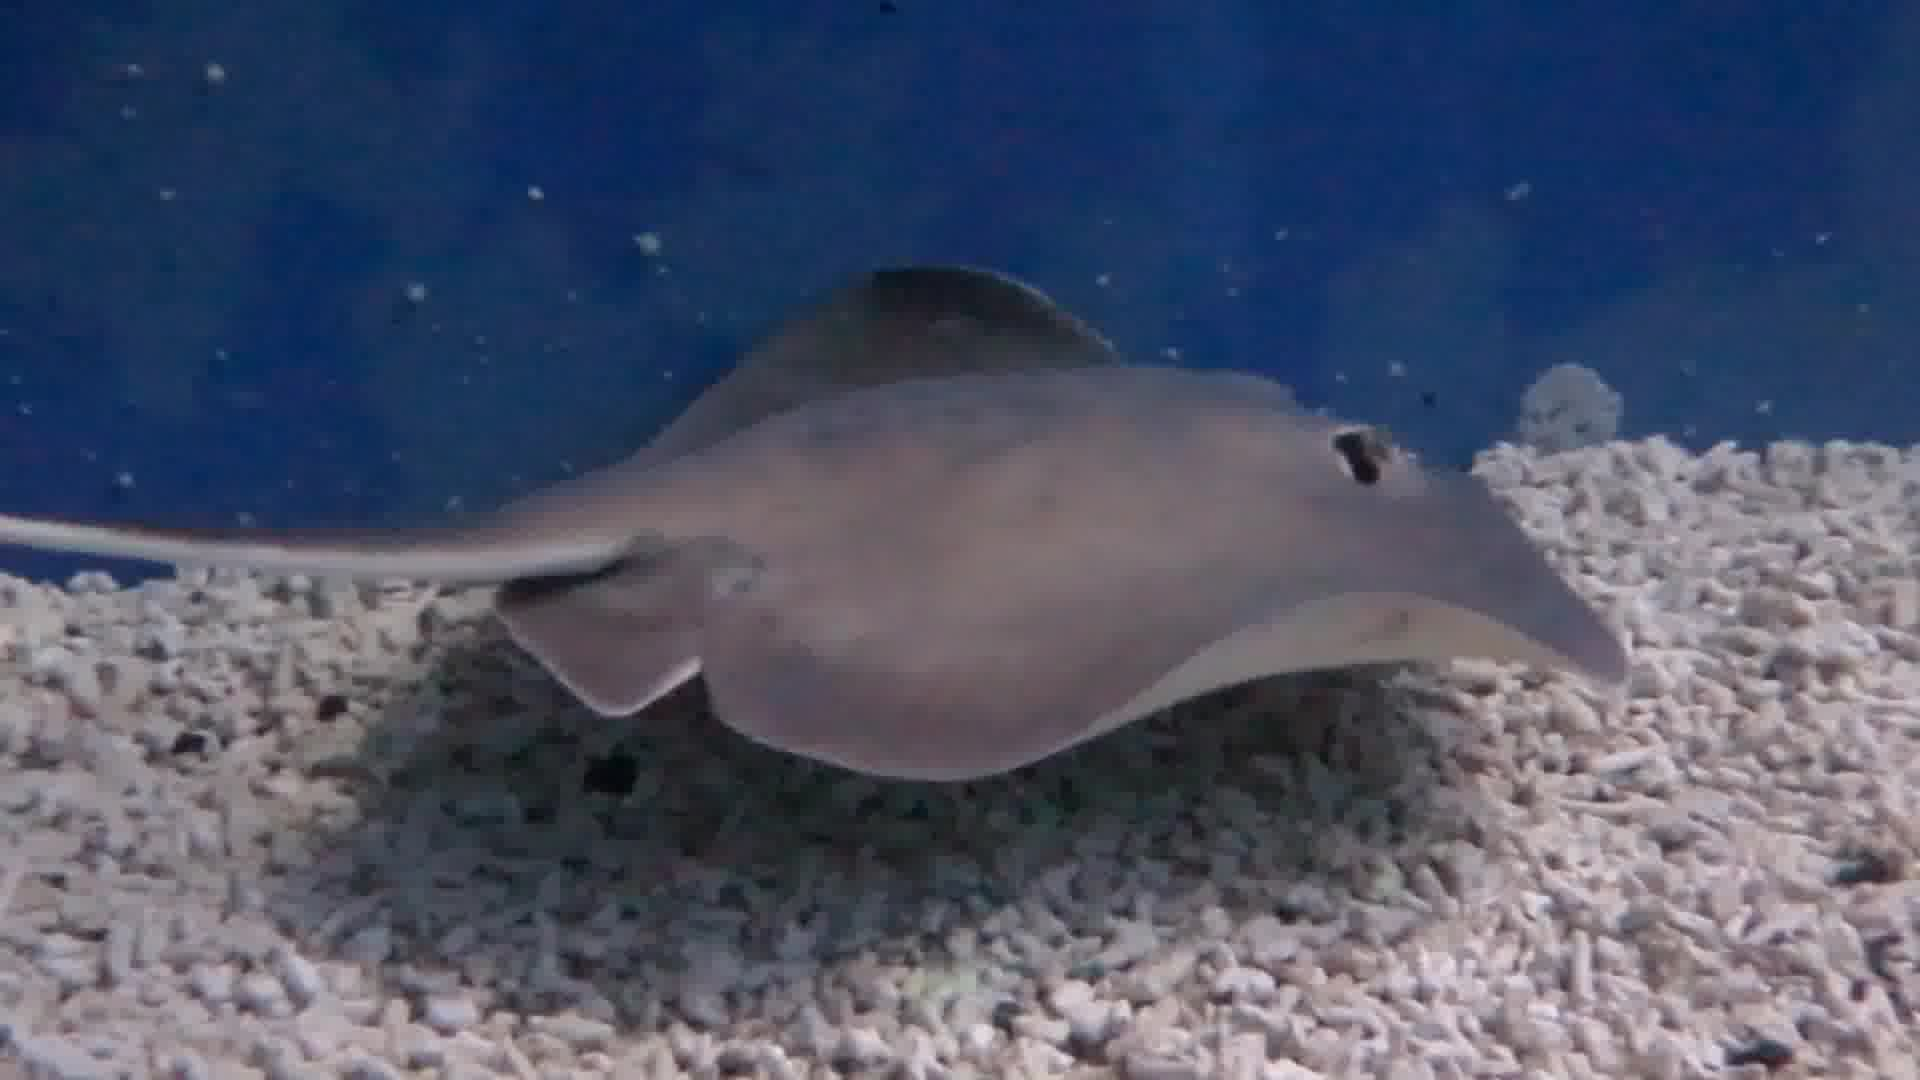Dasyatis bennetti: (465, 87, 1714, 928)
